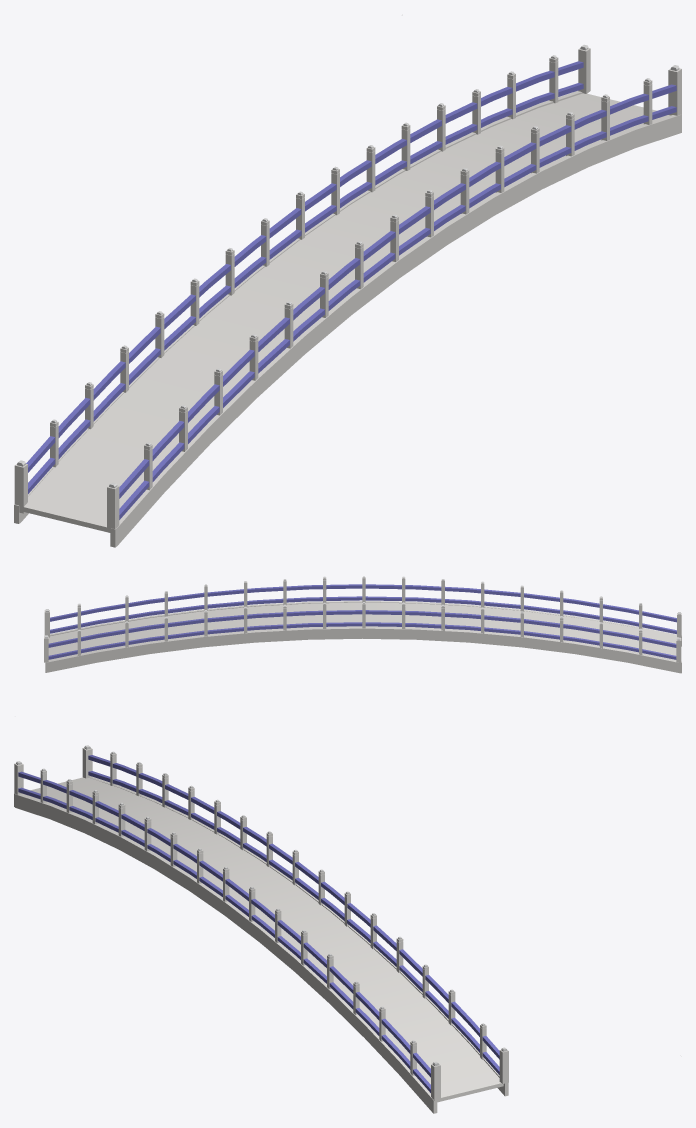
3 views of the same model, one above another, from view 1: azimuth 30°, elevation 25°; view 2: azimuth 150°, elevation 25°; view 3: azimuth 270°, elevation 25° (orthographic). The views are drawn at different scales.
Parts seen in each view (by area): view 1: Component#9_001; view 2: Component#9_001; view 3: Component#9_001.
Boxes of the visible parts, bbox=[...] form: Component#9_001: bbox=[14, 44, 681, 547]; Component#9_001: bbox=[44, 576, 681, 673]; Component#9_001: bbox=[14, 745, 508, 1113].
Bounding box in the file's own units: 947 × 125 × 821.
